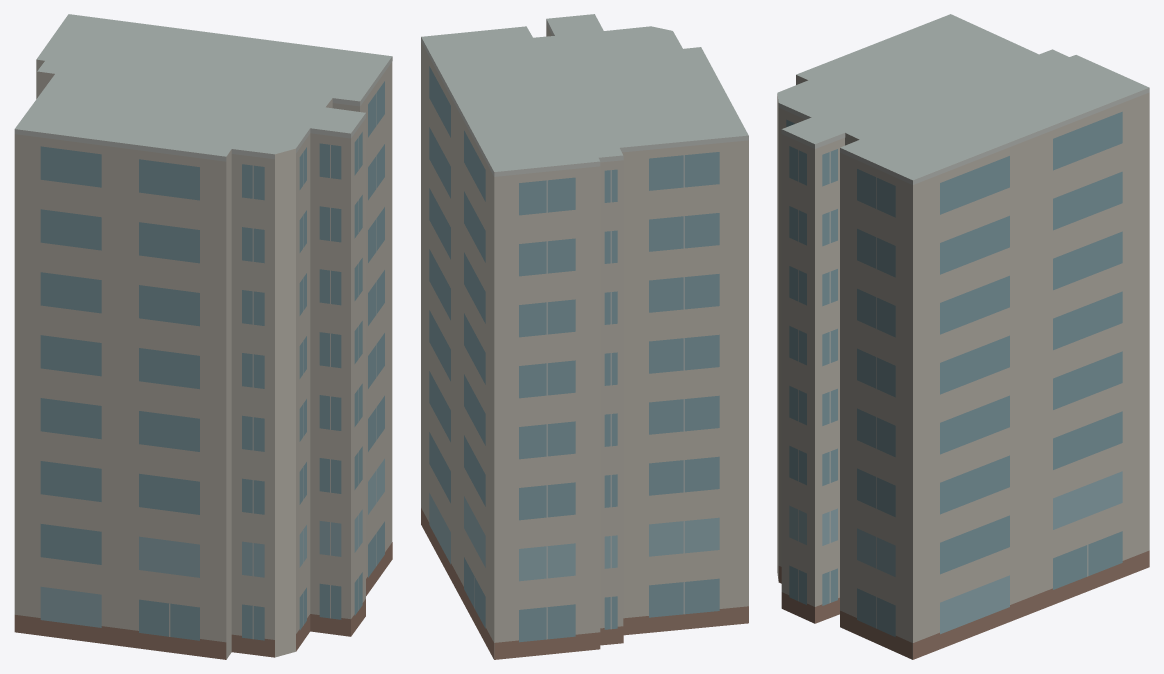
The model's file is survey-upis-32528346.glb.
The picture shows the model from 3 angles, left to right: view 1: azimuth 30°, elevation 25°; view 2: azimuth 150°, elevation 25°; view 3: azimuth 270°, elevation 25°; orthographic projection. The views are drawn at different scales.
Parts seen in each view (by area): view 1: survey-upis-32528346.tmp; view 2: survey-upis-32528346.tmp; view 3: survey-upis-32528346.tmp.
Part boxes in pixels (x1,y1,x2,y2): survey-upis-32528346.tmp: (14, 14, 392, 659); survey-upis-32528346.tmp: (421, 14, 748, 659); survey-upis-32528346.tmp: (777, 14, 1149, 659).
Size of the model in its own units: 18.32 by 24.6 by 17.32.
